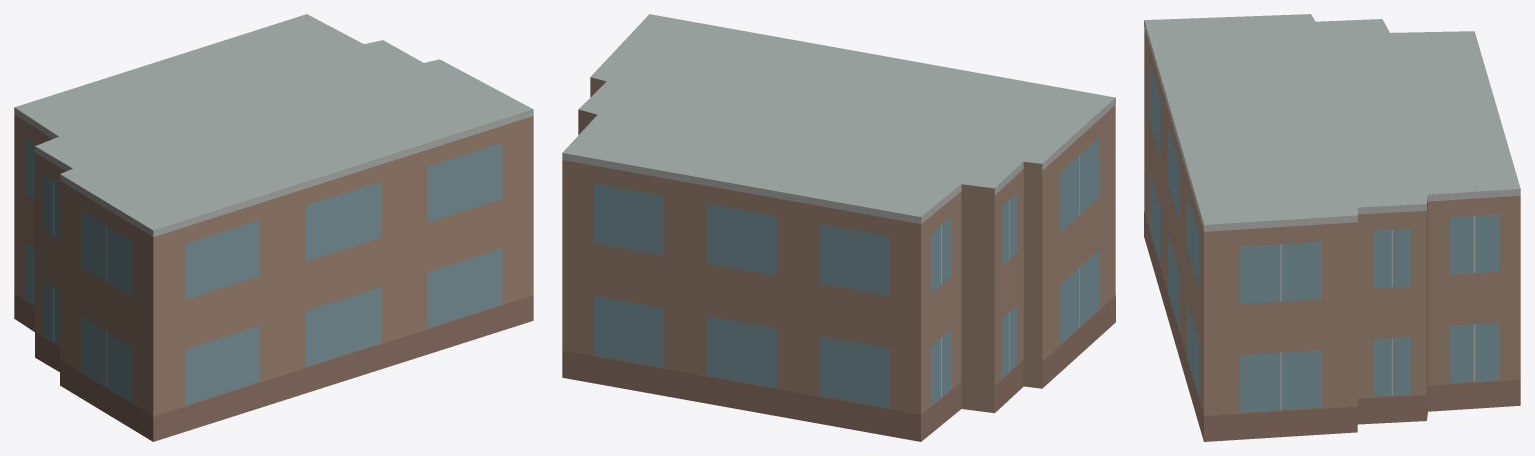
File: survey-upis-33034084.glb
3 renders of one model, left to right at view 1: azimuth 30°, elevation 25°; view 2: azimuth 150°, elevation 25°; view 3: azimuth 270°, elevation 25°, orthographic. The views are drawn at different scales.
Parts seen in each view (by area): view 1: survey-upis-33034084.tmp; view 2: survey-upis-33034084.tmp; view 3: survey-upis-33034084.tmp.
Part boxes in pixels (x1,y1,x2,y2): survey-upis-33034084.tmp: (14, 14, 533, 441); survey-upis-33034084.tmp: (562, 14, 1115, 441); survey-upis-33034084.tmp: (1144, 14, 1520, 441).
Bounding box in the file's own units: 16.29 × 7.8 × 12.28.
